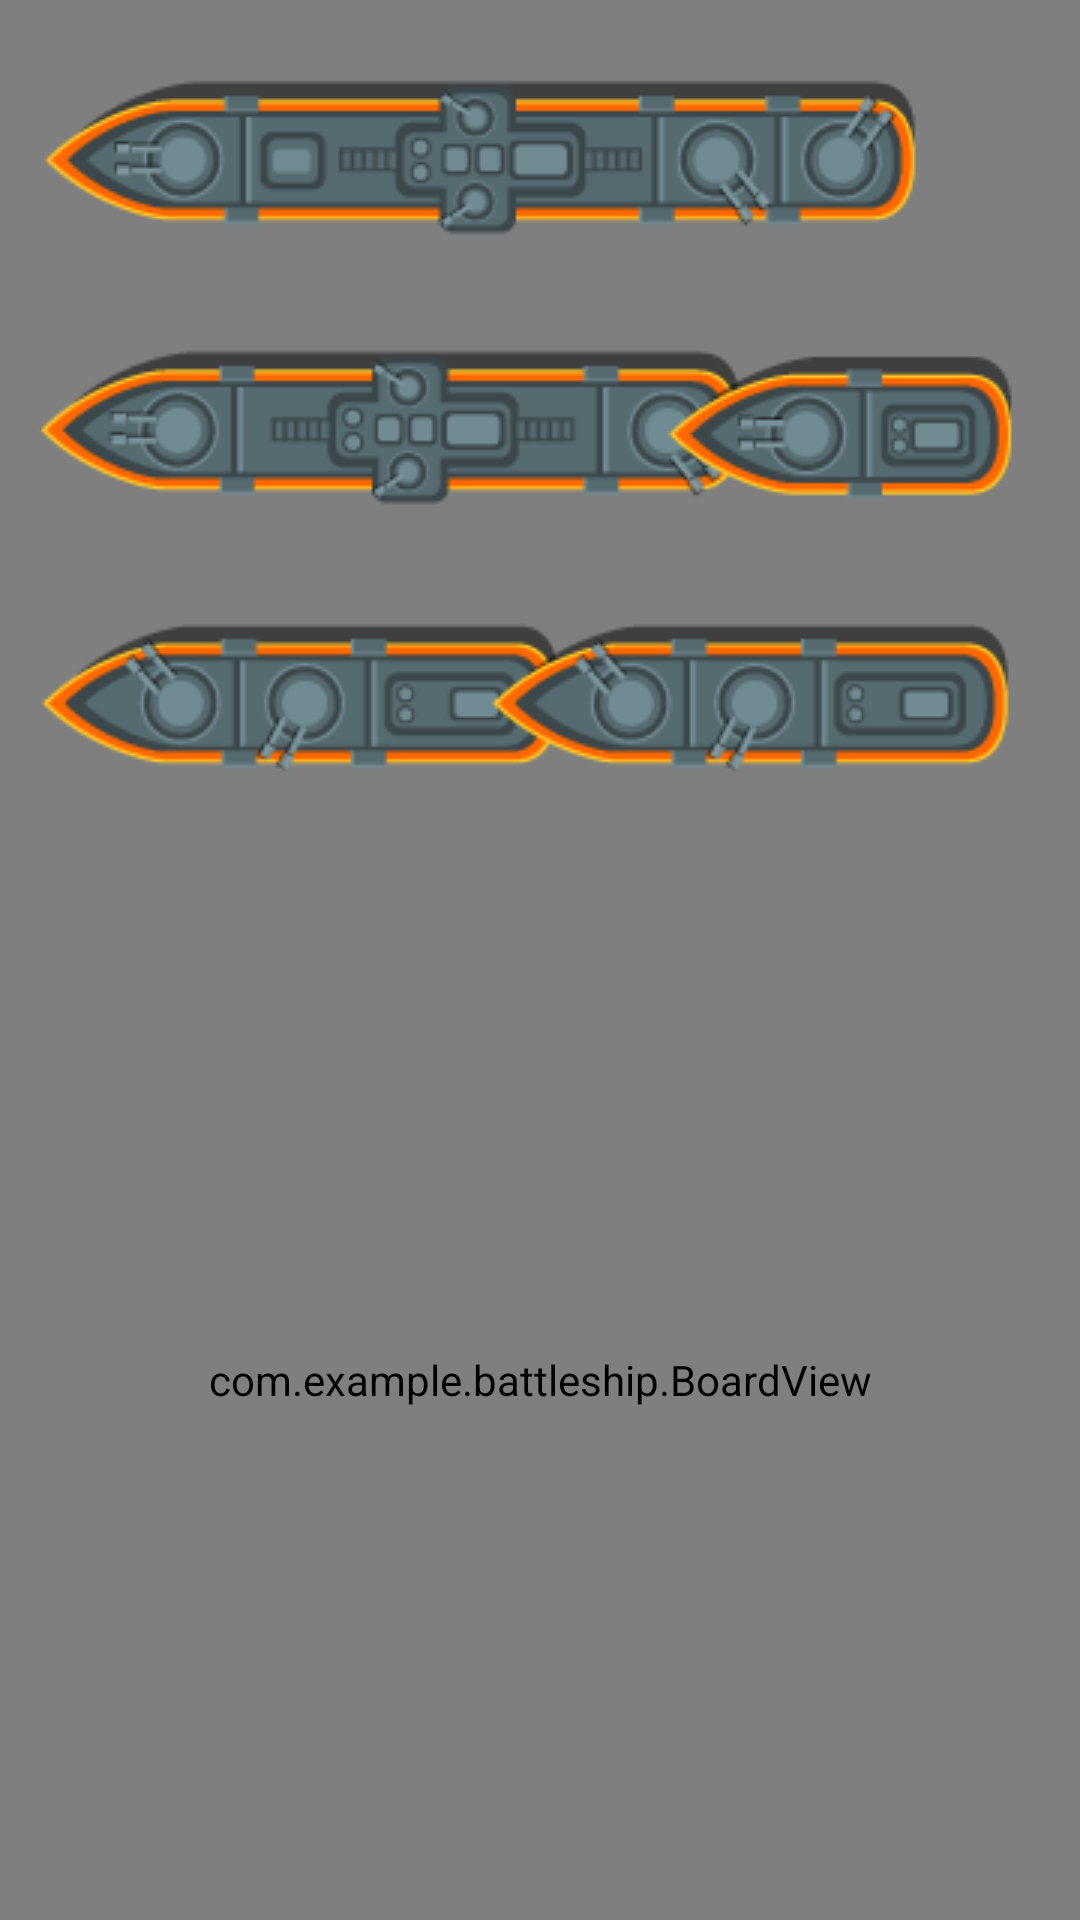

Icon click points for this 1080×1920 phone screenshot, format [x,y]:
ship destroyer: [836,424]
